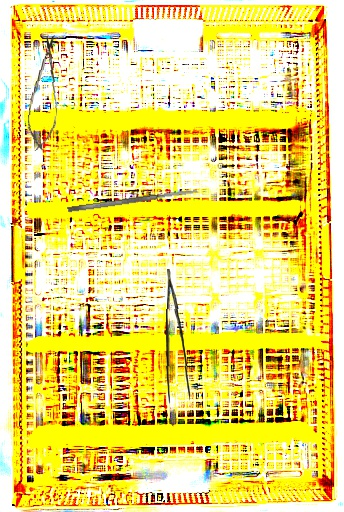Micro Scissor: (25, 33, 64, 153)
Spatula Surgical: (67, 187, 198, 214)
Tissue Forceps: (164, 268, 193, 407)
